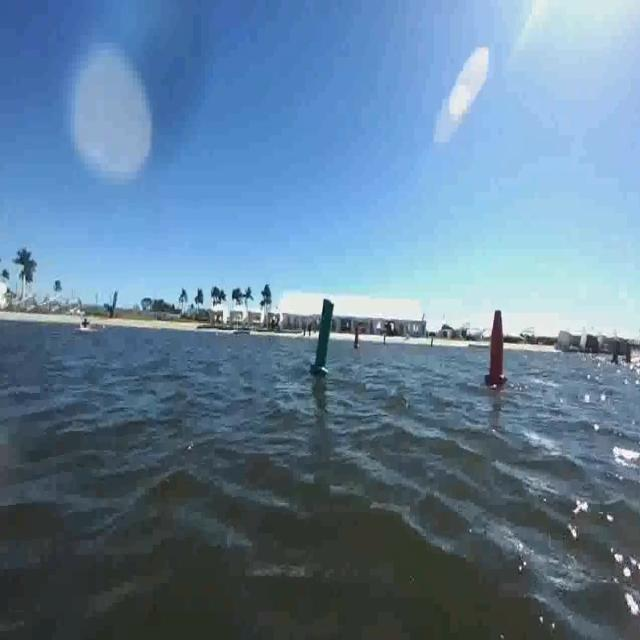green-column-buoy: (310, 297, 337, 378)
red-column-buoy: (486, 307, 508, 386), (354, 327, 362, 351)
